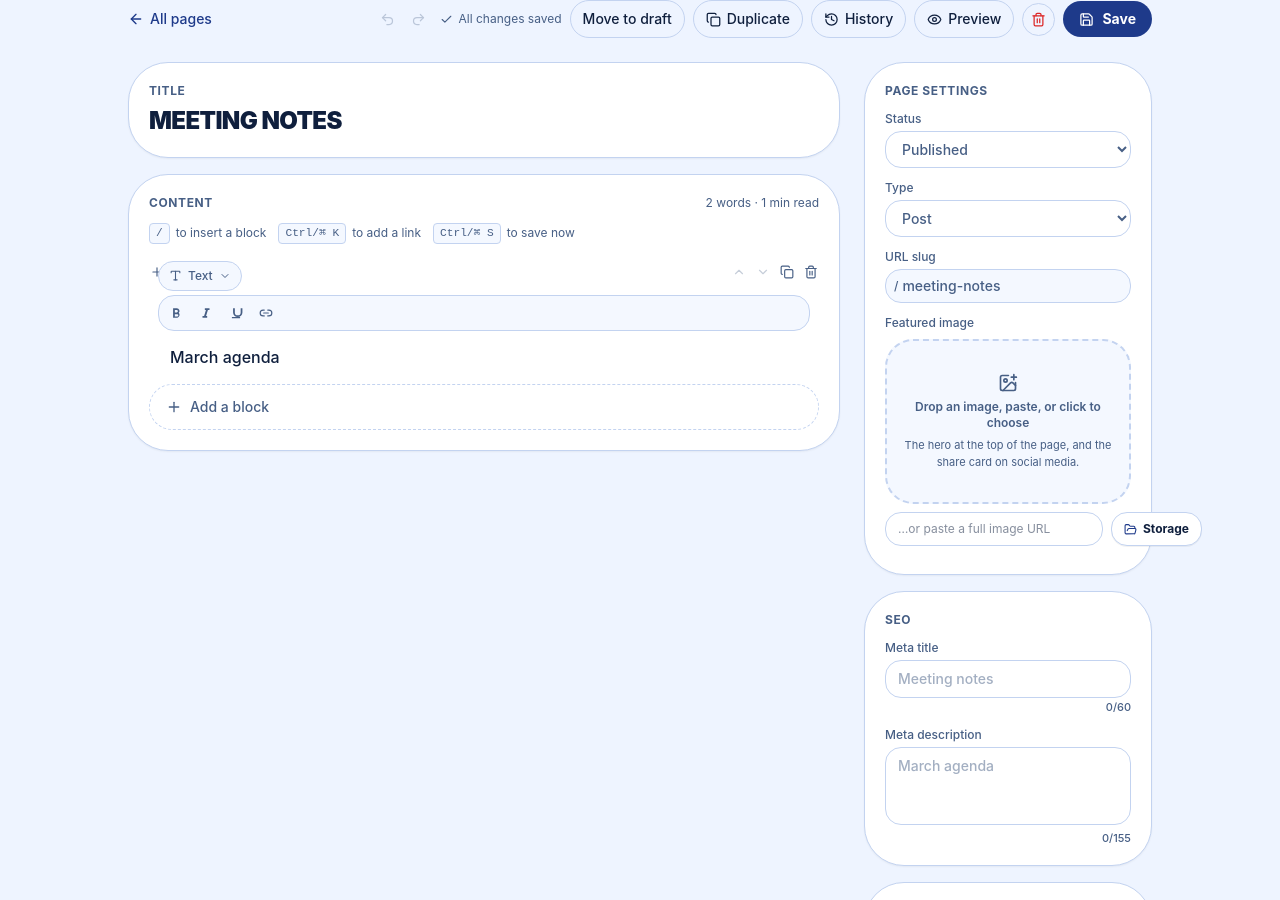
ContentEditor preview › opens a modal preview that renders the sanitized body
Click the button "Preview" at (964, 19), box [914,0,1014,38]
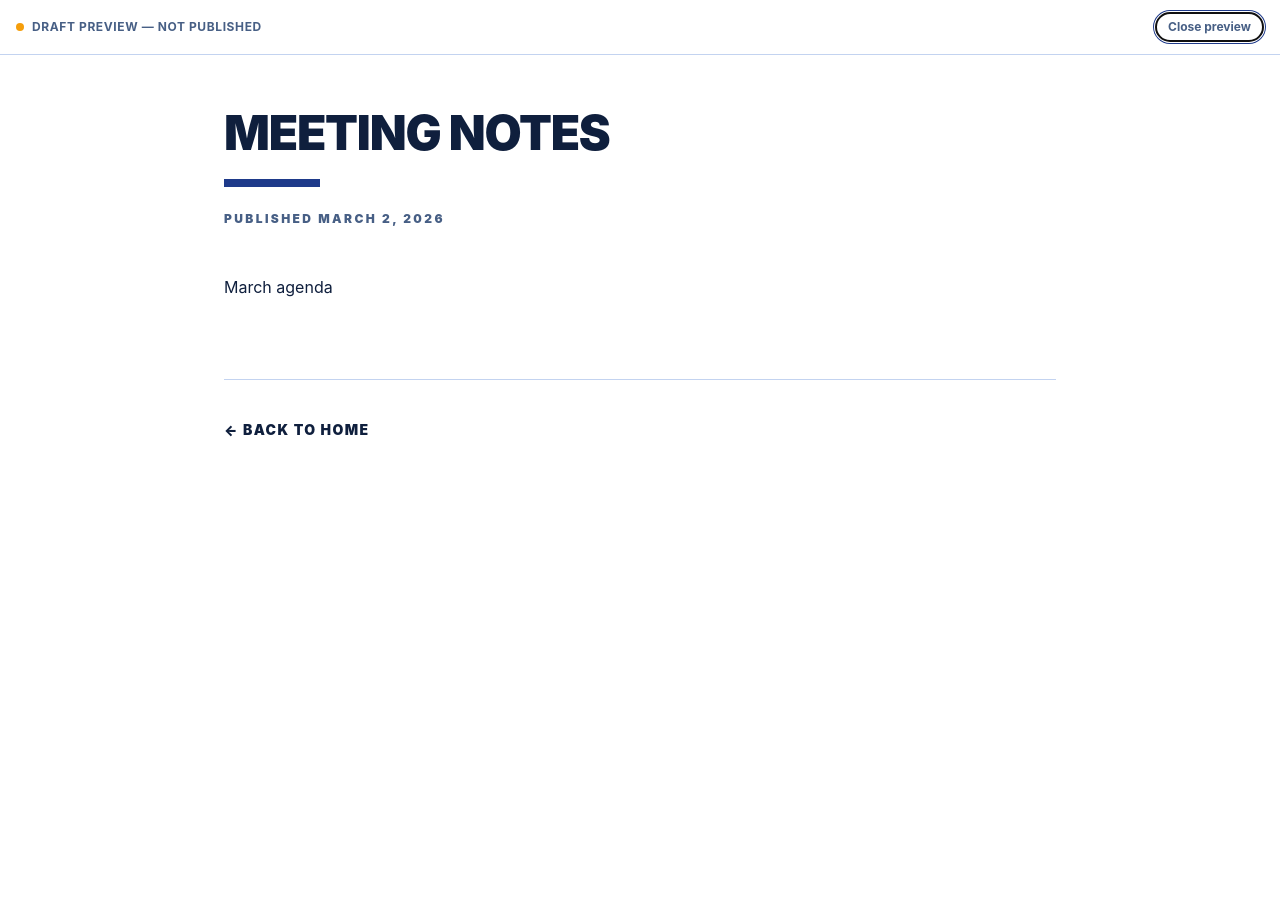
Check: the dialog is shown
Check: the dialog shows "Draft preview", box [32,19,262,34]
Check: the dialog shows "Meeting notes", box [224,103,610,162]
